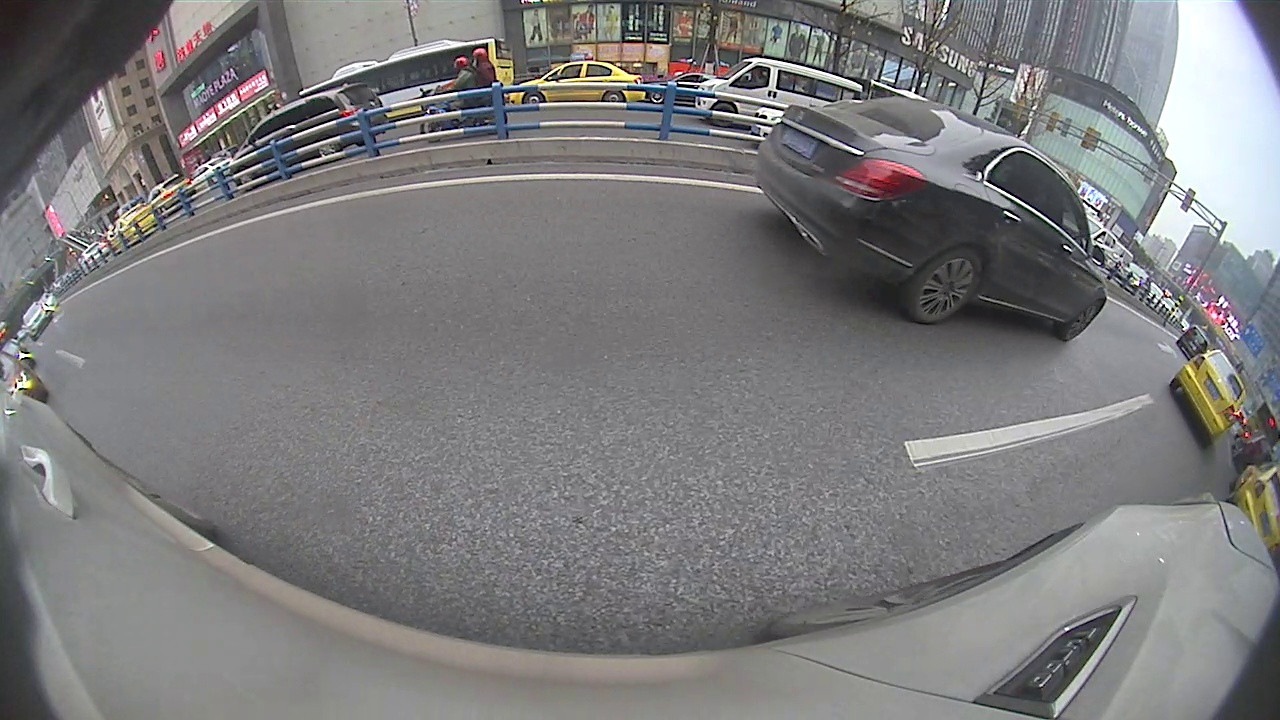car: (748, 91, 1110, 342), (225, 79, 391, 192), (691, 52, 867, 131), (507, 49, 649, 113), (1165, 346, 1249, 449)
front: (1061, 302, 1103, 341), (712, 100, 739, 129), (523, 89, 547, 109)
rear: (908, 247, 984, 327), (602, 89, 624, 107)
rider: (415, 47, 515, 145)
